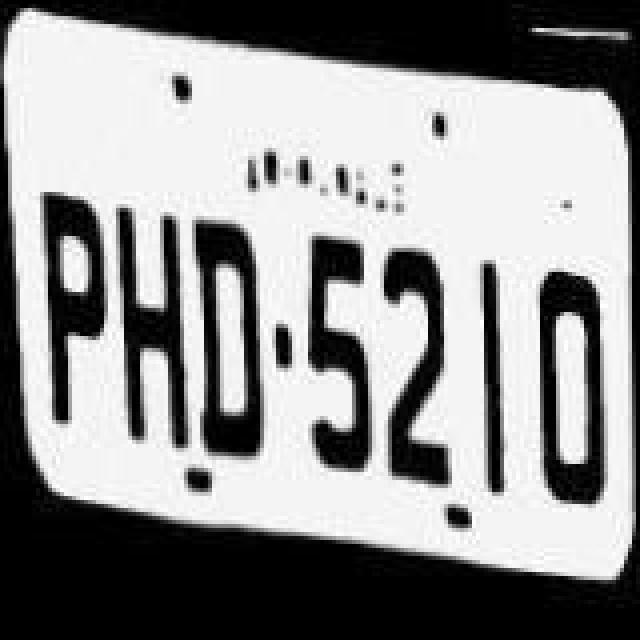1: (460, 250, 516, 502)
2: (372, 240, 460, 496)
5: (302, 226, 386, 482)
D: (184, 214, 264, 490)
H: (112, 192, 192, 468)
O: (520, 248, 608, 504)
P: (38, 184, 122, 456)
